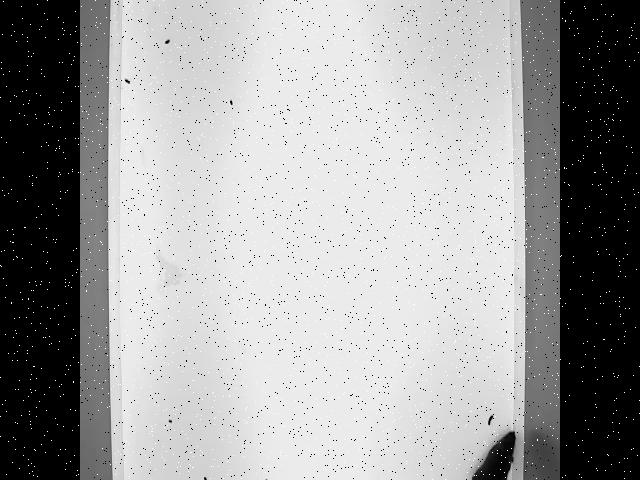Tikus: (406, 420, 520, 480)
